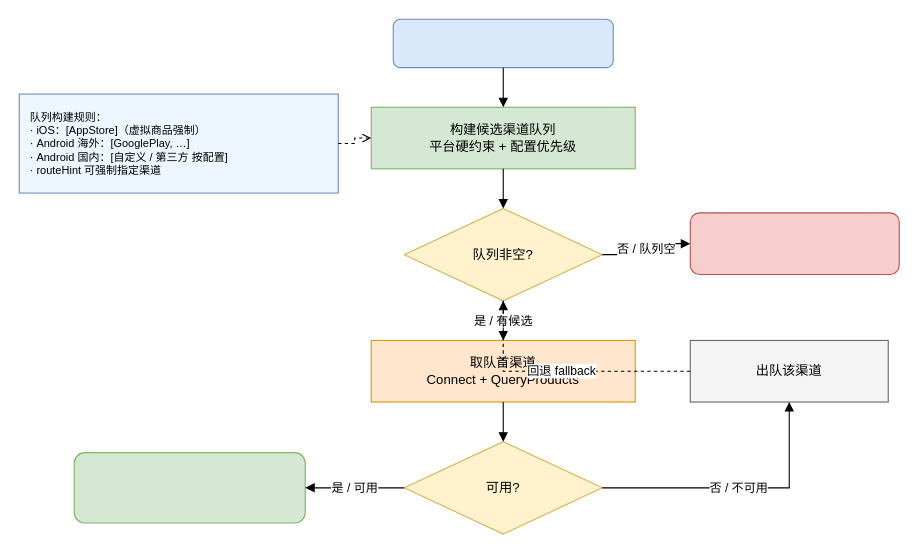
The diagram is 919 pixels wide and 553 high, and some of its shapes have lost their labels. Here are the shapes that lost their labels. From the top down, the centre of each, then its label:
At [502,43]: "收到 PayRequest(ctx)".
At [794,243]: "全部失败：降级 / 报错 （UIAdaptor 弹窗）".
At [189,487]: "选中渠道 → 进入购买 / 校验流程".
